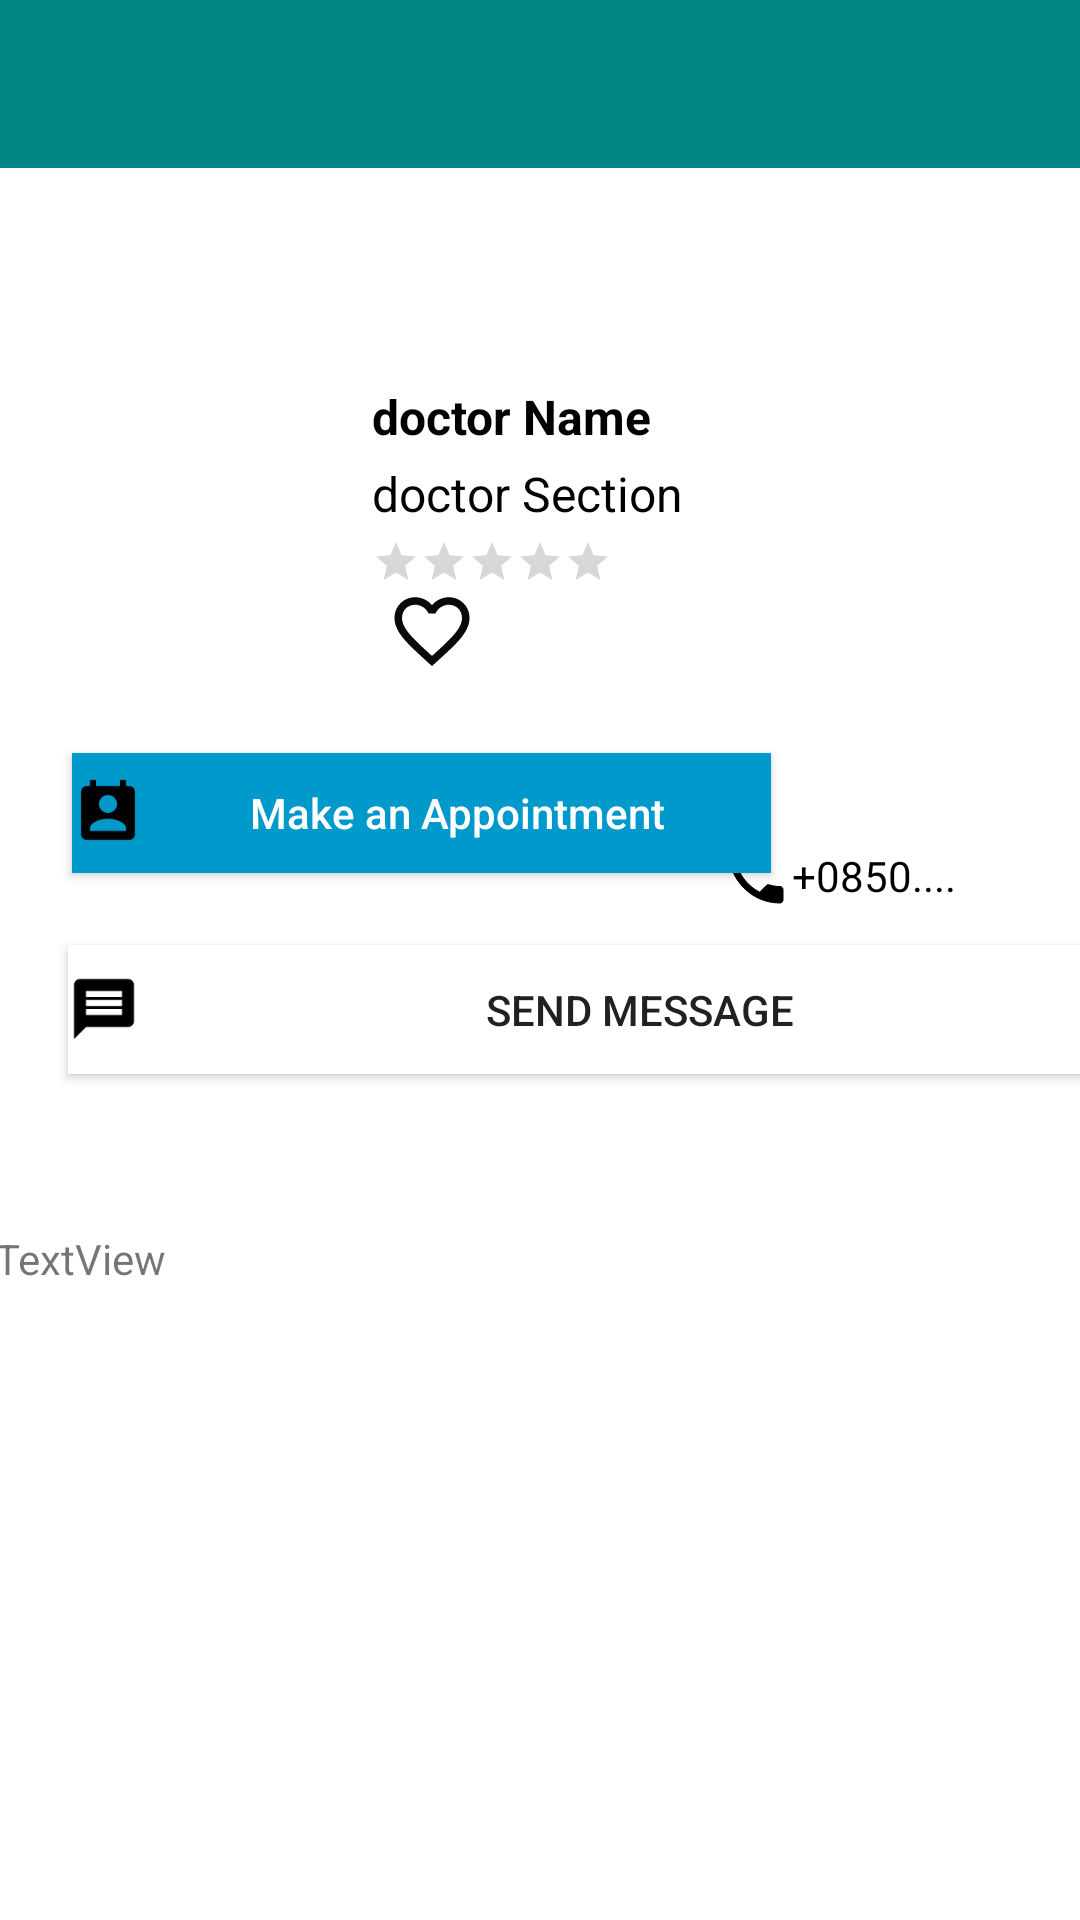

Screen size 1080px x 1920px. Icon name, then its box in pixels as region(x1, y1, x2, y2):
favorite border: region(394, 597, 470, 666)
